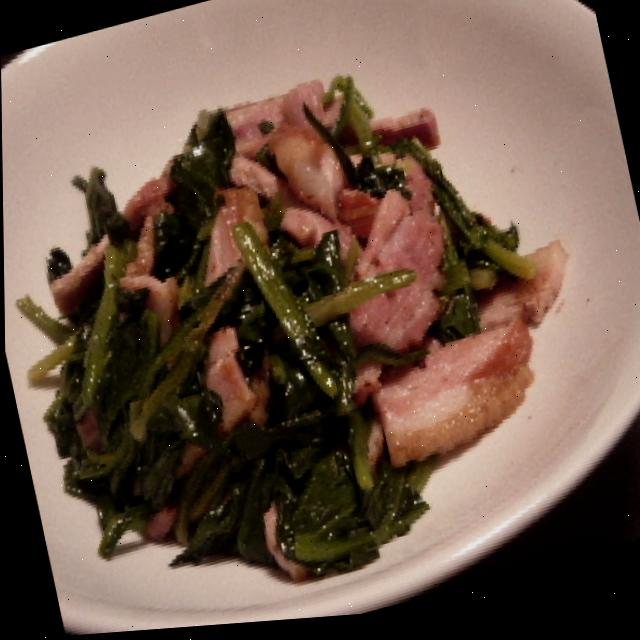蔬菜料理: (1, 34, 599, 640)
